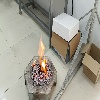fire: (38, 32, 47, 79), (32, 60, 36, 66), (34, 74, 35, 76)
